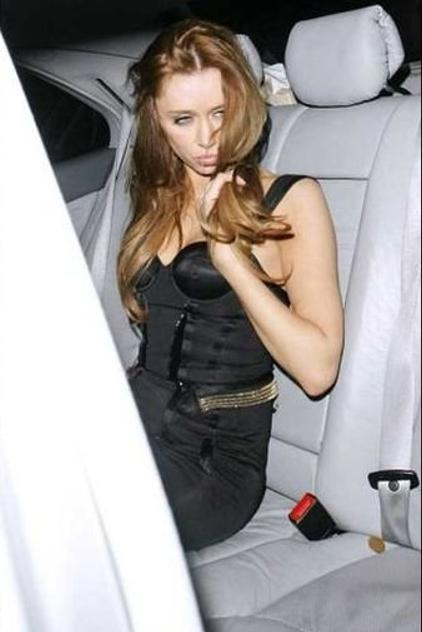Drunk: (159, 75, 232, 170)
